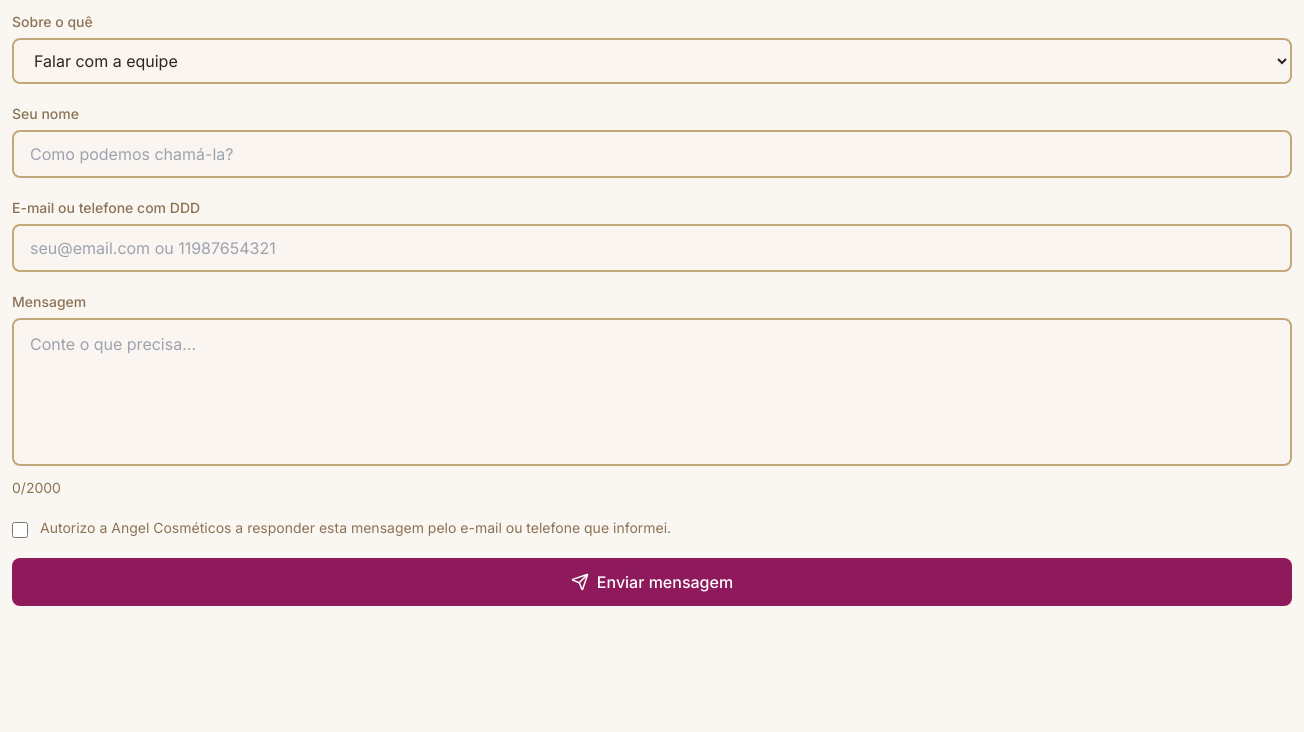
Test: contrato do AtendimentoForm › mostra erros por campo ao enviar vazio
The width and height of the screenshot is (1304, 732).
Click the button "Enviar mensagem" at (652, 582), box [12,558,1292,606]
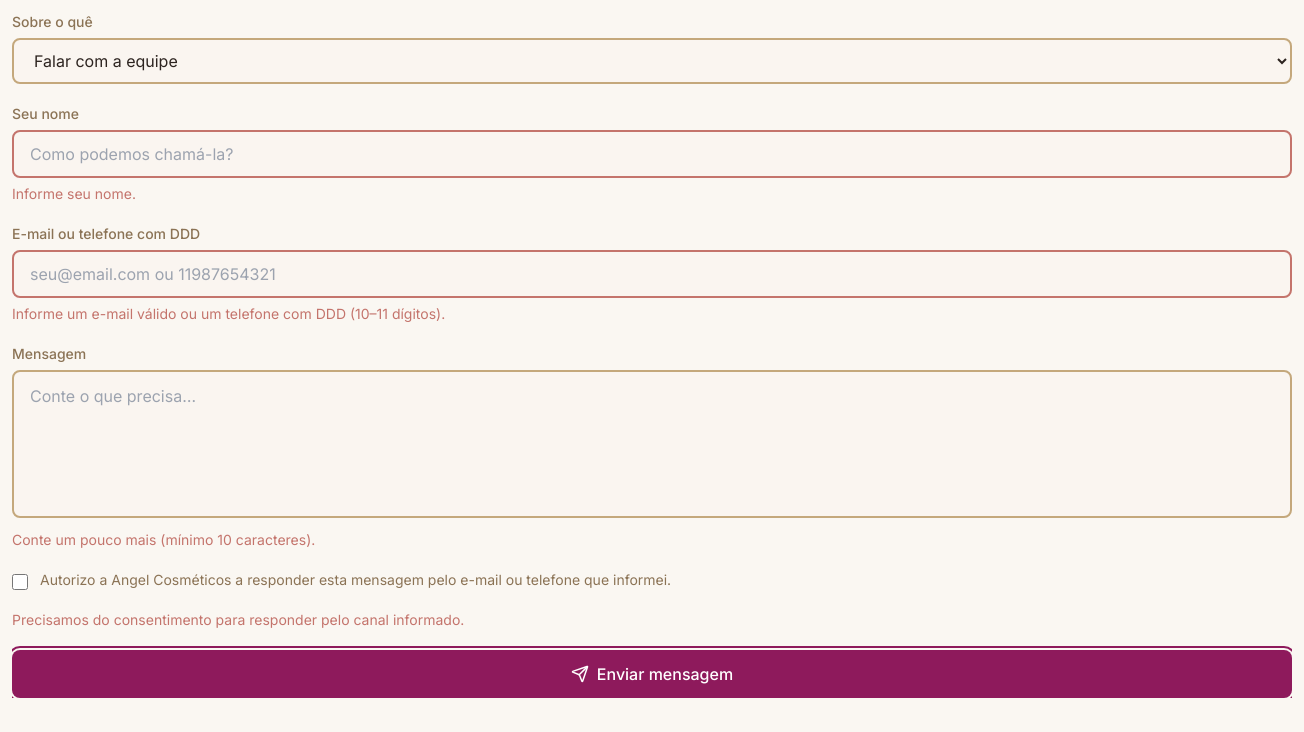
Expected: the text "Informe seu nome." is shown, [12,185,136,202]
Expected: the text "e-mail válido ou um telefone" is shown, [12,305,445,322]
Expected: the text "Conte um pouco mais (mínimo 10 caracteres)." is shown, [12,531,315,548]
